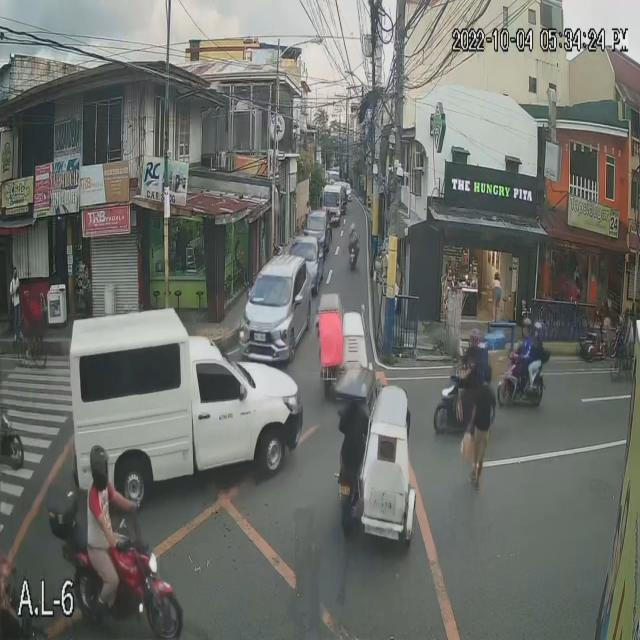Full-Faced: (84, 441, 114, 494), (465, 324, 485, 352), (518, 310, 533, 340), (530, 314, 542, 345), (350, 219, 360, 232)
